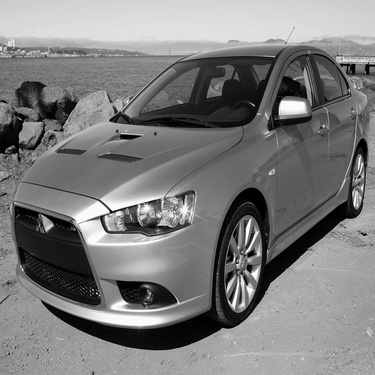car: (4, 34, 371, 355)
